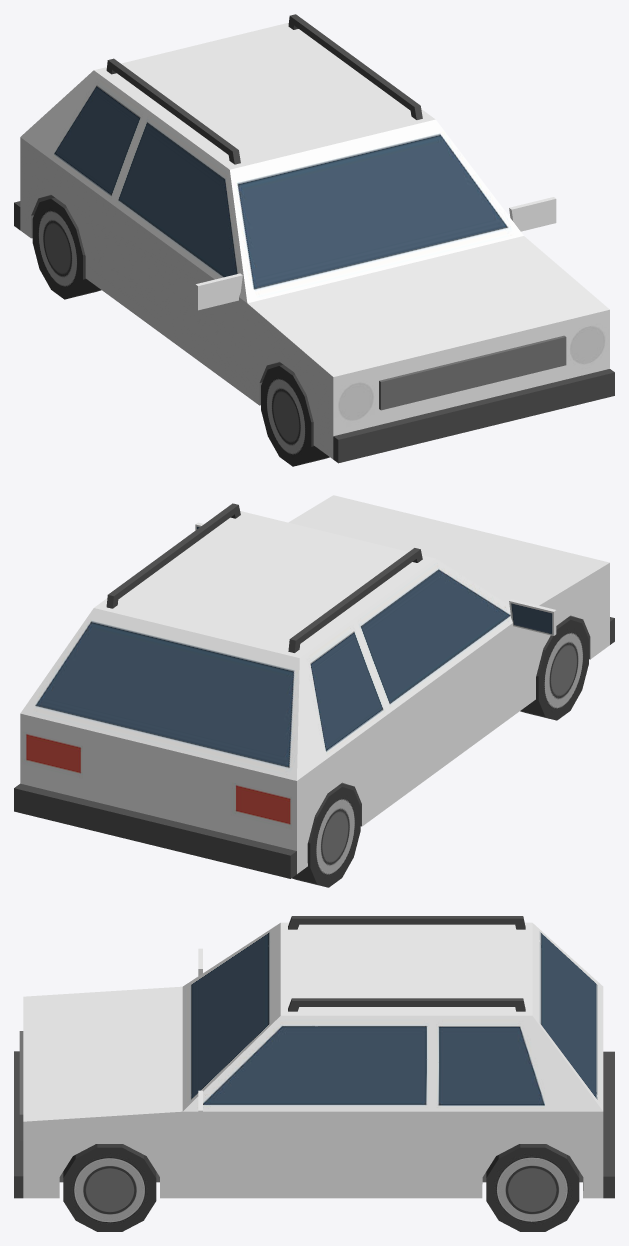
Rendered from Hatch.fbx.
3 renders of one model, top to bottom at view 1: azimuth 30°, elevation 25°; view 2: azimuth 150°, elevation 25°; view 3: azimuth 270°, elevation 25°, orthographic. The views are drawn at different scales.
Parts seen in each view (by area): view 1: Hatch; view 2: Hatch; view 3: Hatch.
Part boxes in pixels (<box>): Hatch: <box>14,14,614,466</box>; Hatch: <box>14,495,614,887</box>; Hatch: <box>14,916,614,1231</box>.
Size of the model in its own units: 263 by 160 by 412.
